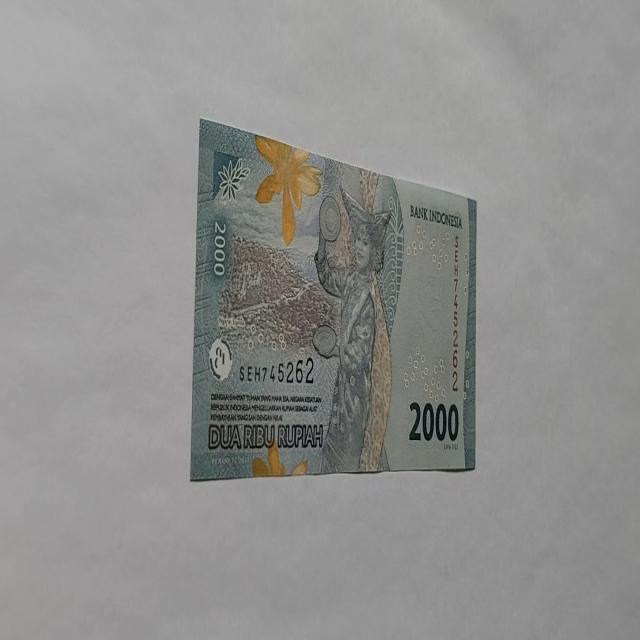dua ribu rupiah: (190, 119, 478, 480), (311, 184, 393, 473), (253, 132, 323, 246)
